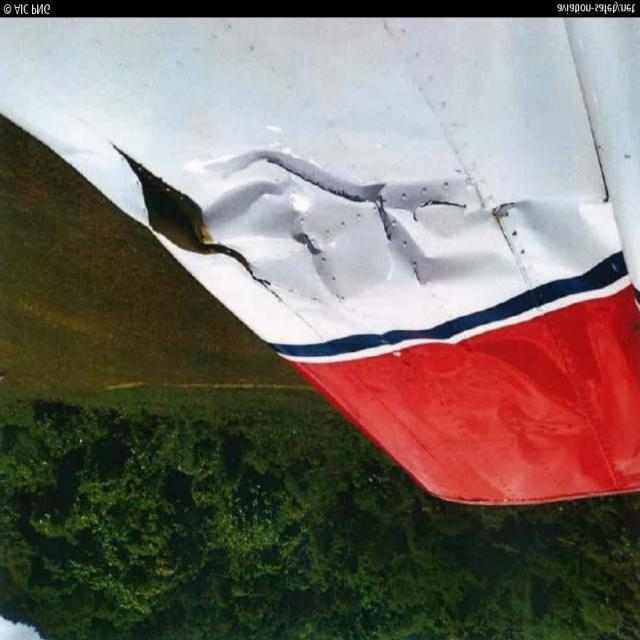crack: (274, 164, 377, 220), (412, 187, 489, 221), (366, 192, 401, 234)
